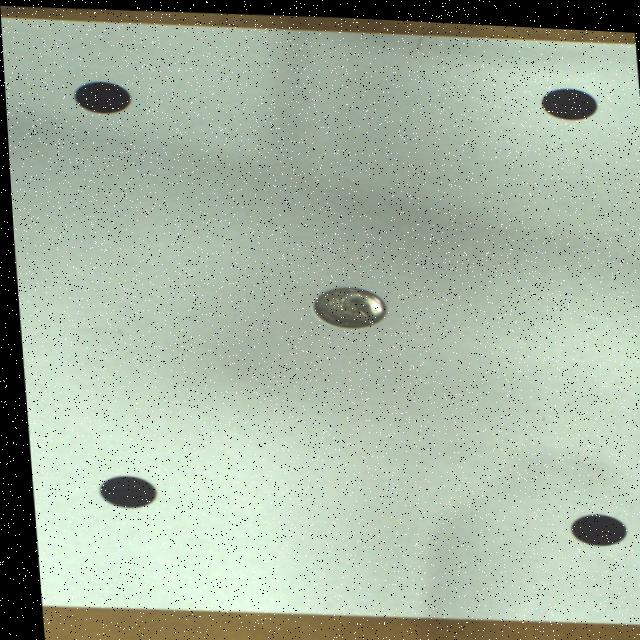space: (93, 474, 149, 507), (563, 507, 619, 539), (72, 80, 128, 112), (540, 82, 594, 114)
tail1bath: (310, 284, 380, 324)
